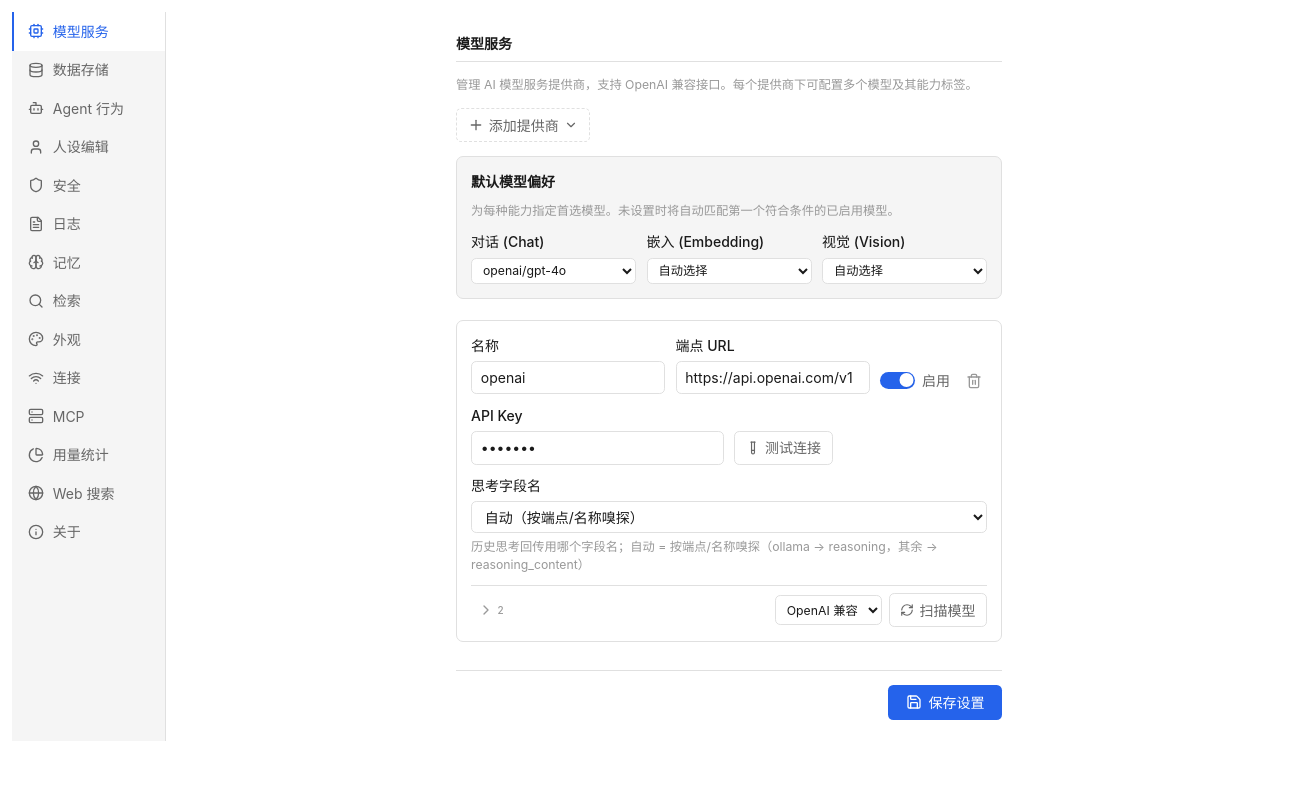
Test: SettingsPanel tabs › shows an error state with retry when MCP servers fail to load
Expected: the heading "默认模型偏好" is shown, 471,173 -> 555,190
Click the tab "MCP" at (88, 416), box 12,397 -> 165,436
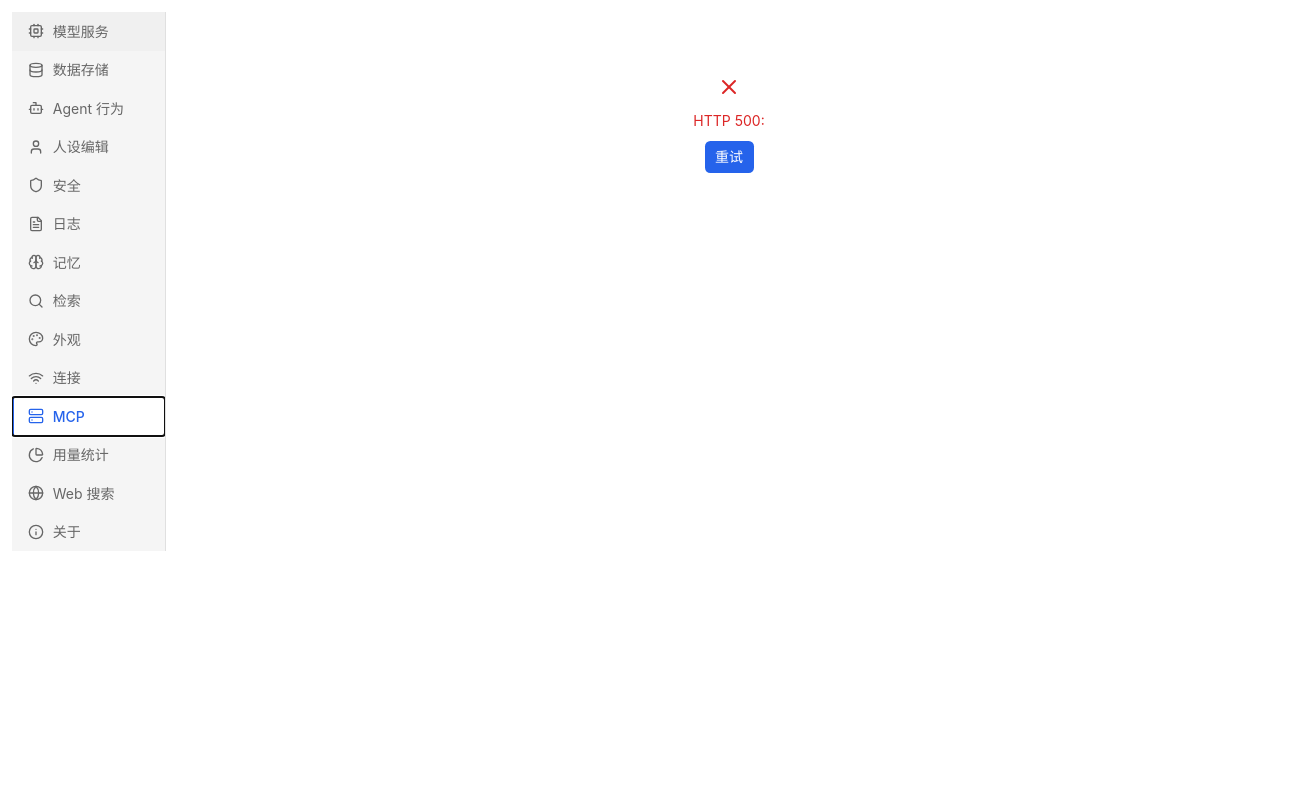
Expected: the text "HTTP 500:" is shown, 693,110 -> 765,130
Expected: the button "重试" is shown, 704,141 -> 754,172
